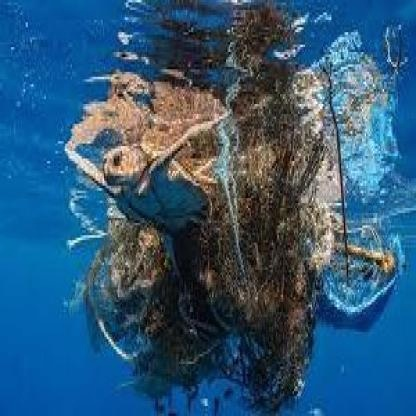net: (146, 96, 314, 376)
